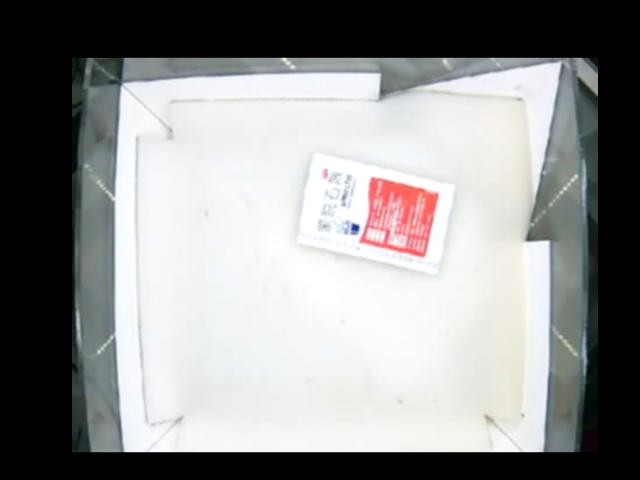Medicine: (298, 152, 457, 273)
